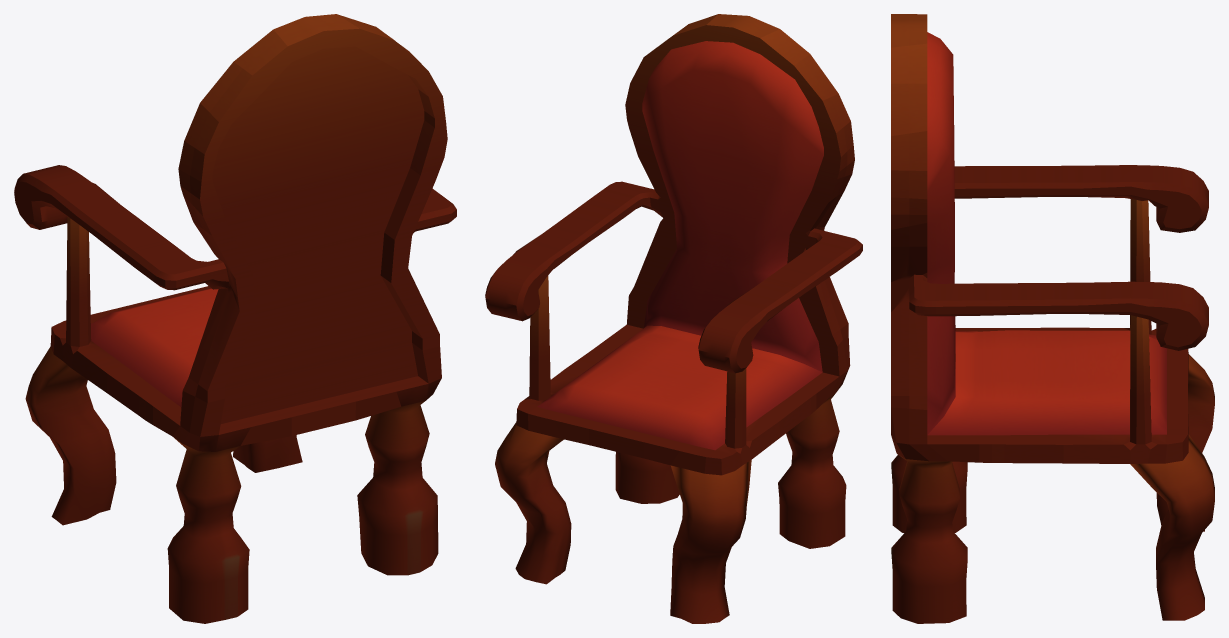
Rendered from Chair.fbx.
3 renders of one model, left to right at view 1: azimuth 30°, elevation 25°; view 2: azimuth 150°, elevation 25°; view 3: azimuth 270°, elevation 25°, orthographic. The views are drawn at different scales.
Parts seen in each view (by area): view 1: chair1; view 2: chair1; view 3: chair1.
Part boxes in pixels (x1=…): chair1: x1=14, y1=14, x2=456, y2=623; chair1: x1=485, y1=14, x2=862, y2=623; chair1: x1=891, y1=14, x2=1214, y2=623.
Size of the model in its own units: 0.4715 by 0.8644 by 0.4657.
1 material, 1 textured.
